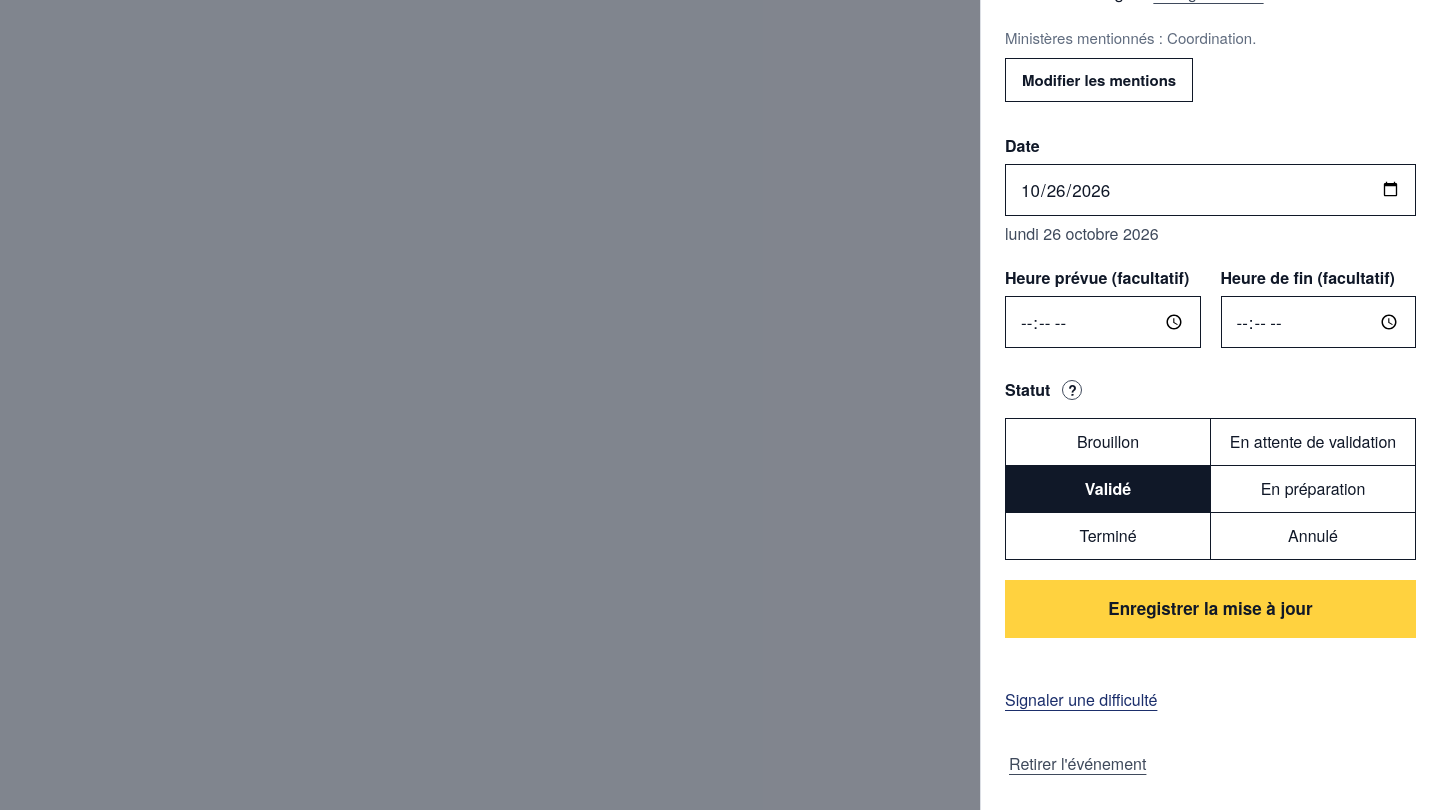
panneau du porteur, avant la date (T78) › retirer : un refus de la base se dit dans la fenêtre, traduit
The width and height of the screenshot is (1440, 810).
(page scrolled)
Click the button "Retirer l'événement" at point(1078, 764), box [1005,742,1150,786]
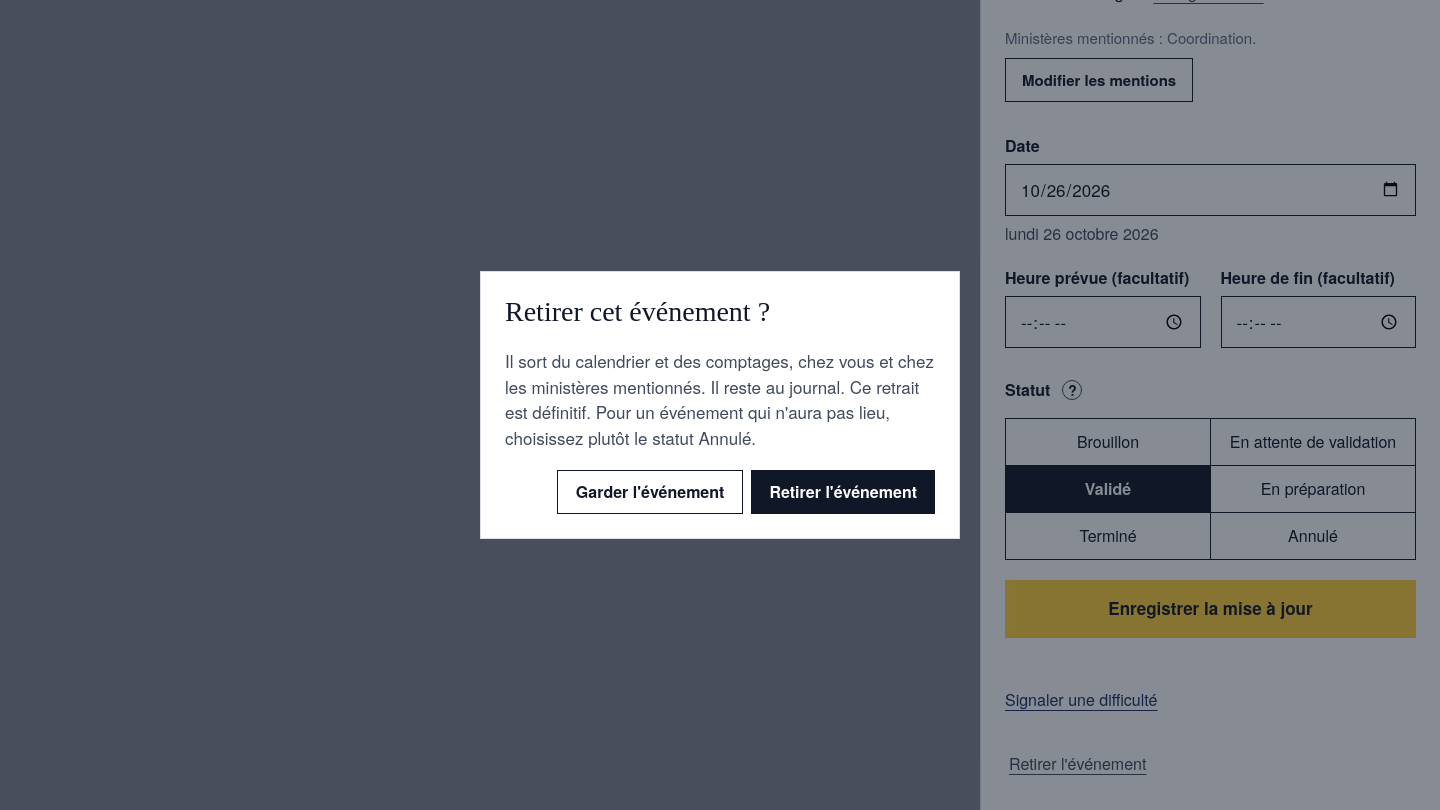
Click the button named "Retirer l'événement" at point(843, 492), box [751,470,935,514]
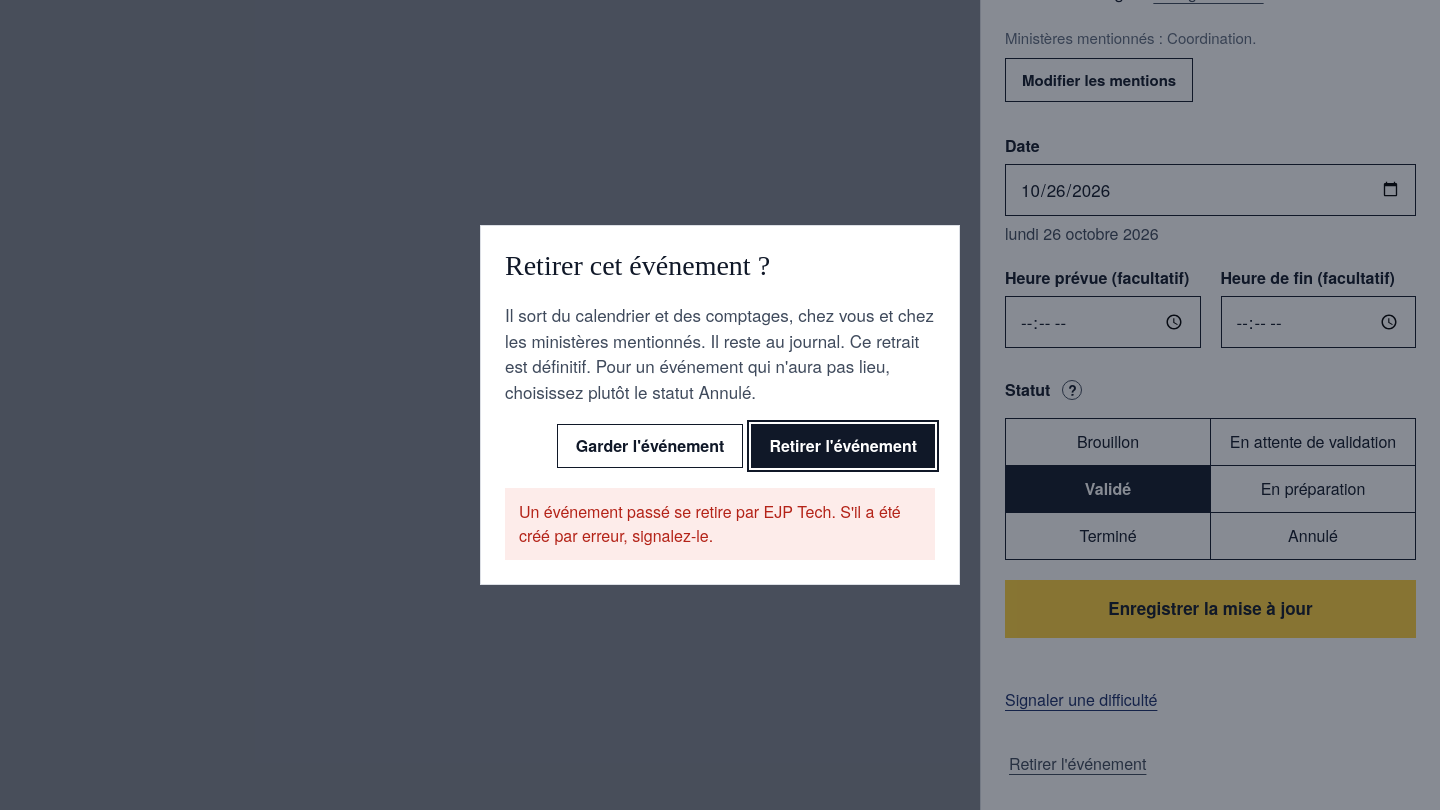
Check: the text "Un événement passé se retire par EJP Tech. S'il a été créé par erreur, signalez-le." is shown, box [519,500,901,547]
